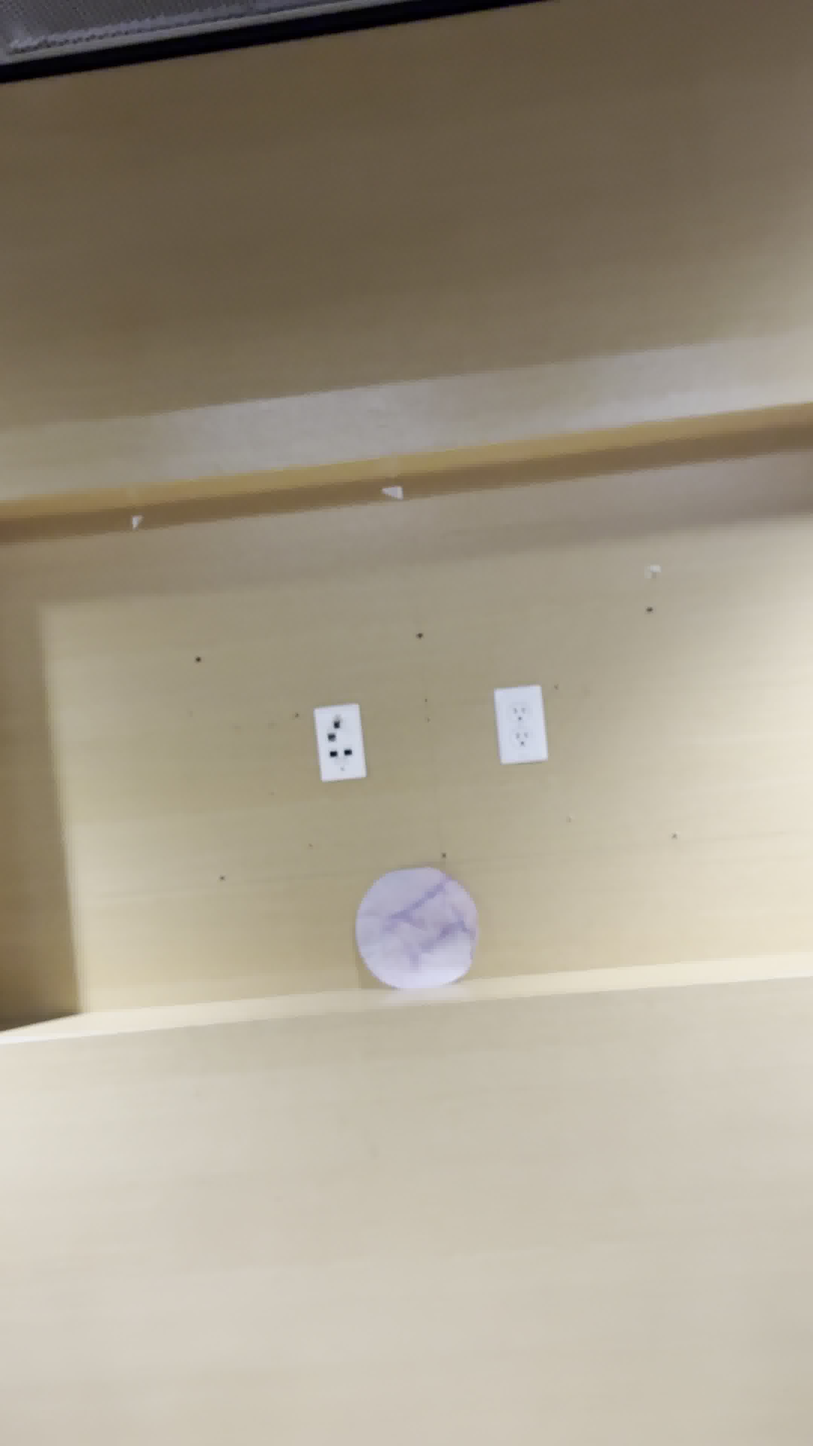Target: (352, 872, 480, 990)
